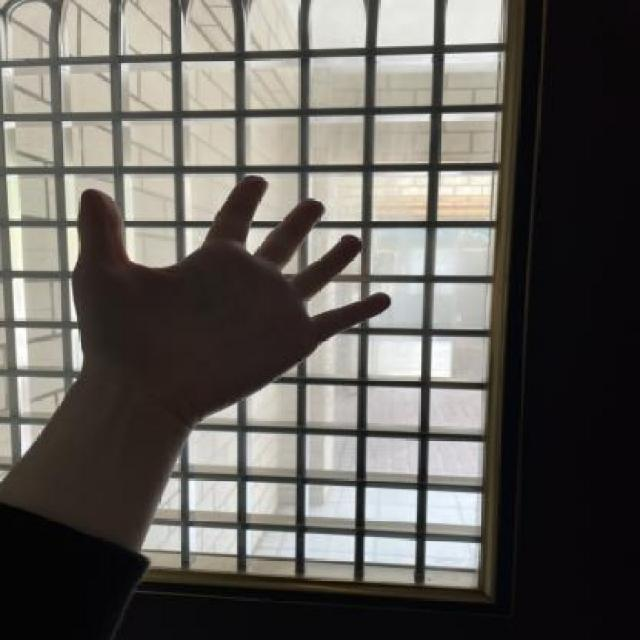Hand: (52, 170, 392, 445)
